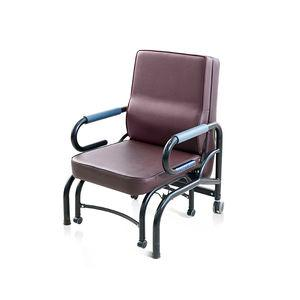chair: (58, 43, 226, 261)
